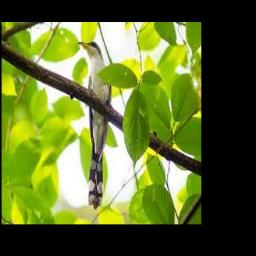Cuckoo: (77, 41, 111, 209)
